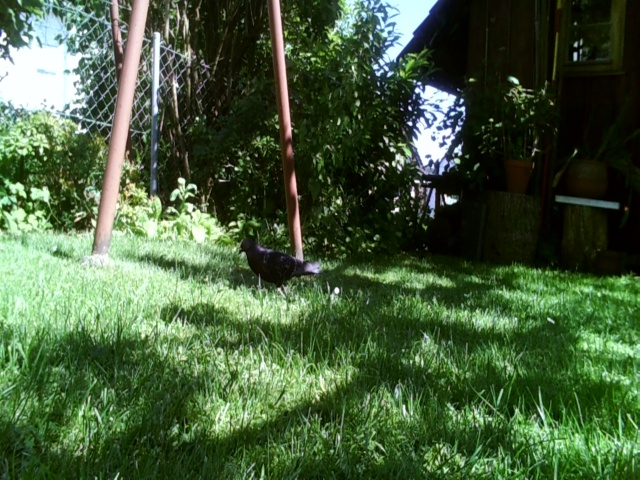Pigeon: (221, 227, 347, 298)
